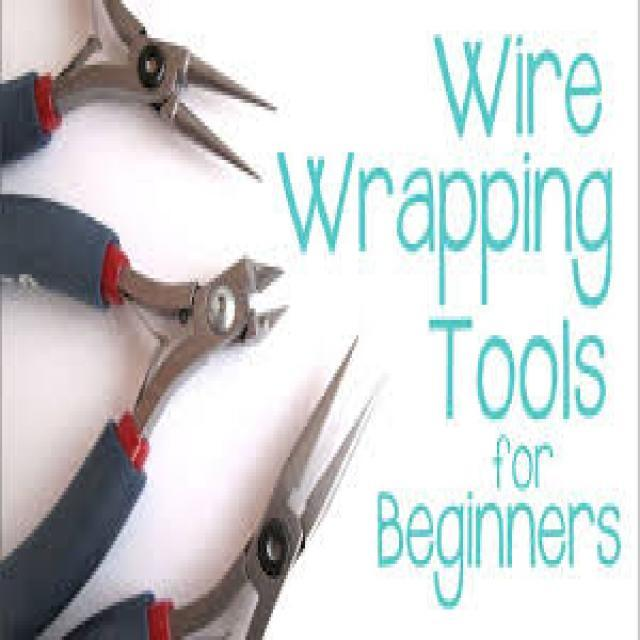pliers: (0, 192, 284, 587), (124, 320, 386, 640), (0, 0, 283, 199)
